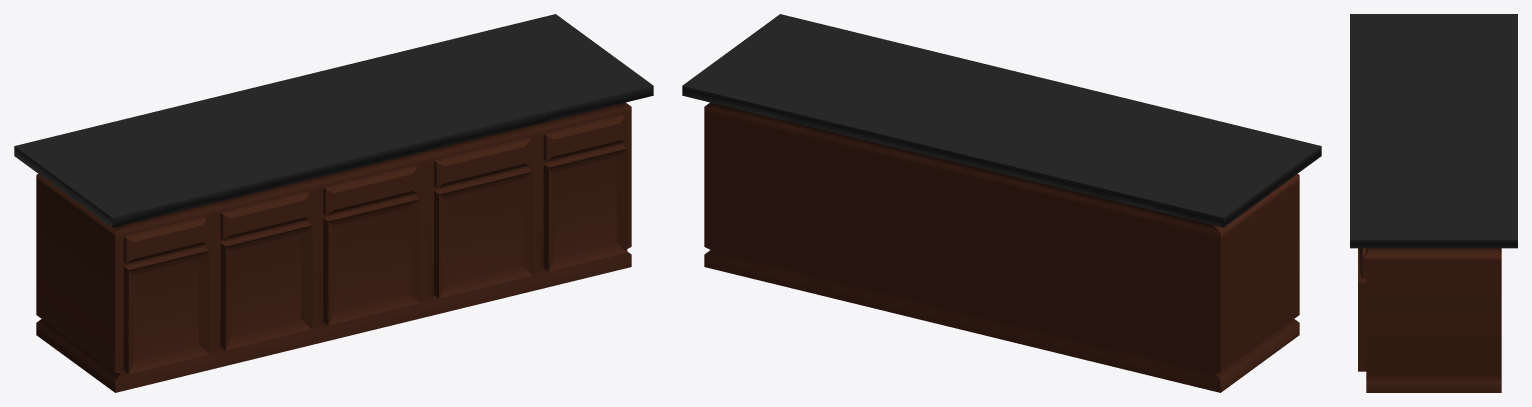
Rendered from bar counter.fbx.
3 views of the same model, side by side, from view 1: azimuth 30°, elevation 25°; view 2: azimuth 150°, elevation 25°; view 3: azimuth 270°, elevation 25° (orthographic). The views are drawn at different scales.
Parts seen in each view (by area): view 1: pCube1; view 2: pCube1; view 3: pCube1.
Part boxes in pixels (<box>): pCube1: <box>14,14,653,392</box>; pCube1: <box>682,14,1321,392</box>; pCube1: <box>1350,14,1517,392</box>.
Bounding box in the file's own units: 10.89 × 3.56 × 3.42.
